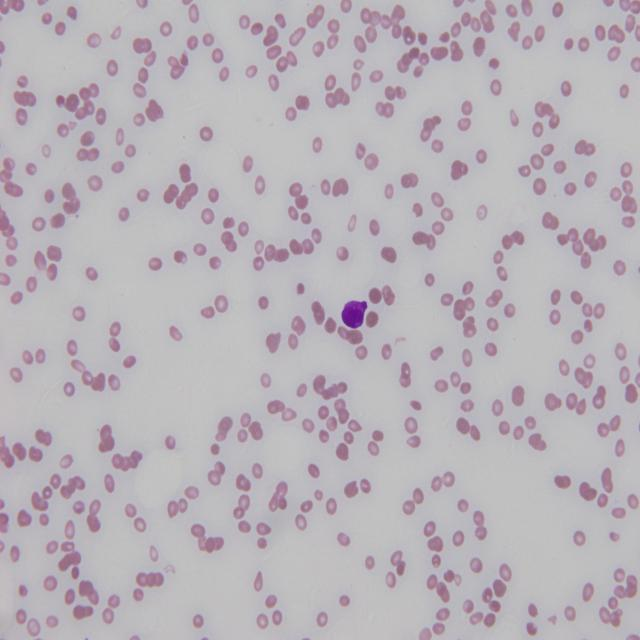cell: (341, 301, 368, 328)
